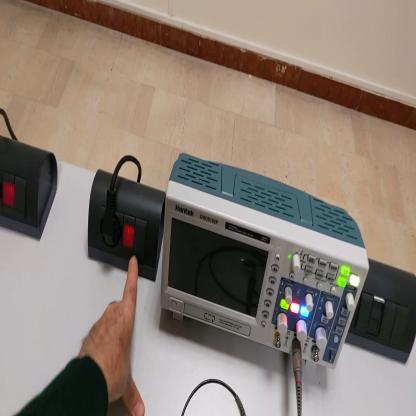hand: (78, 257, 145, 416)
oscilloscope: (157, 151, 374, 368)
socket: (88, 167, 166, 282), (1, 135, 60, 244)
